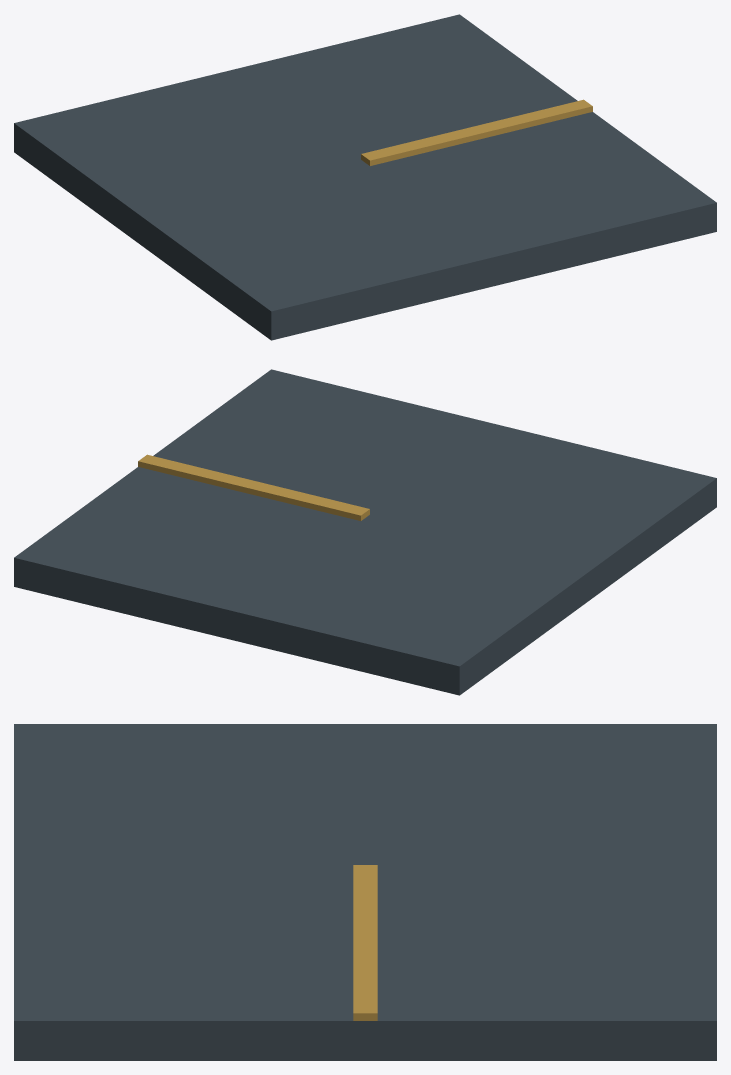
Rendered from terrain-road-corner.lod0.glb.
3 renders of one model, top to bottom at view 1: azimuth 30°, elevation 25°; view 2: azimuth 150°, elevation 25°; view 3: azimuth 270°, elevation 25°, orthographic. The views are drawn at different scales.
Visible parts, largest first — view 1: terrain-road-corner__body; view 2: terrain-road-corner__body; view 3: terrain-road-corner__body.
Boxes of the visible parts, box(x1,y1,x2,y2) form: terrain-road-corner__body: box(14, 14, 716, 340); terrain-road-corner__body: box(14, 369, 716, 695); terrain-road-corner__body: box(14, 724, 716, 1060).
Bounding box in the file's own units: 2 × 0.149 × 2.
